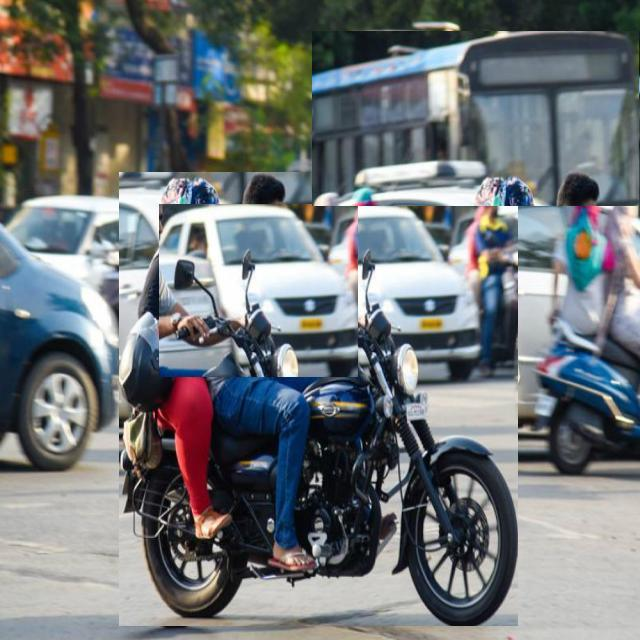bus: (312, 31, 640, 206)
car: (160, 204, 358, 377)
motorcycle: (120, 173, 518, 626)
